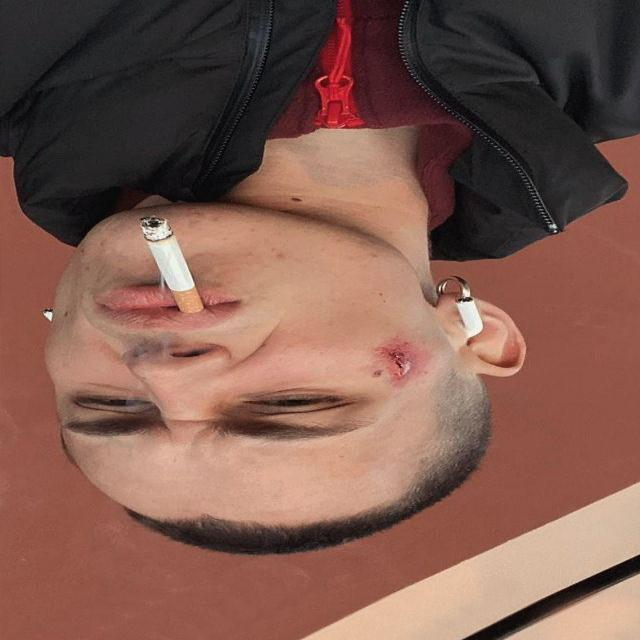cigarette: (99, 190, 260, 332)
